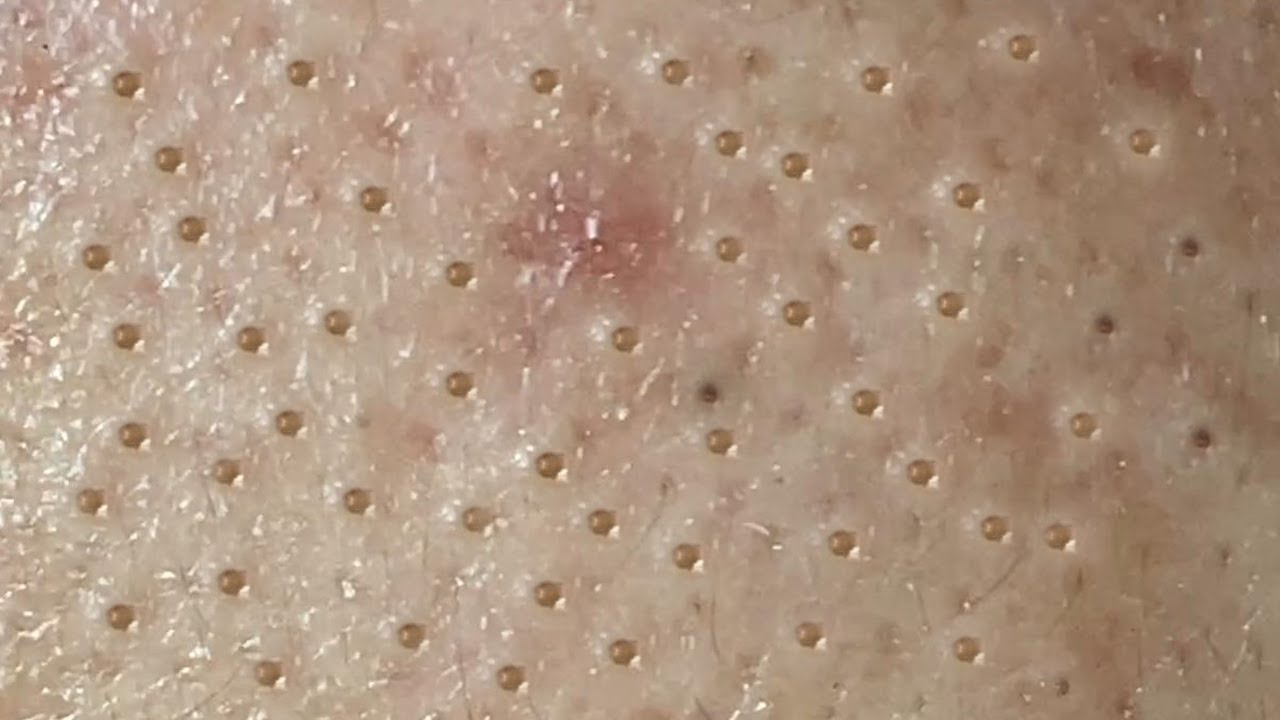jerawat: (24, 22, 1262, 720)
